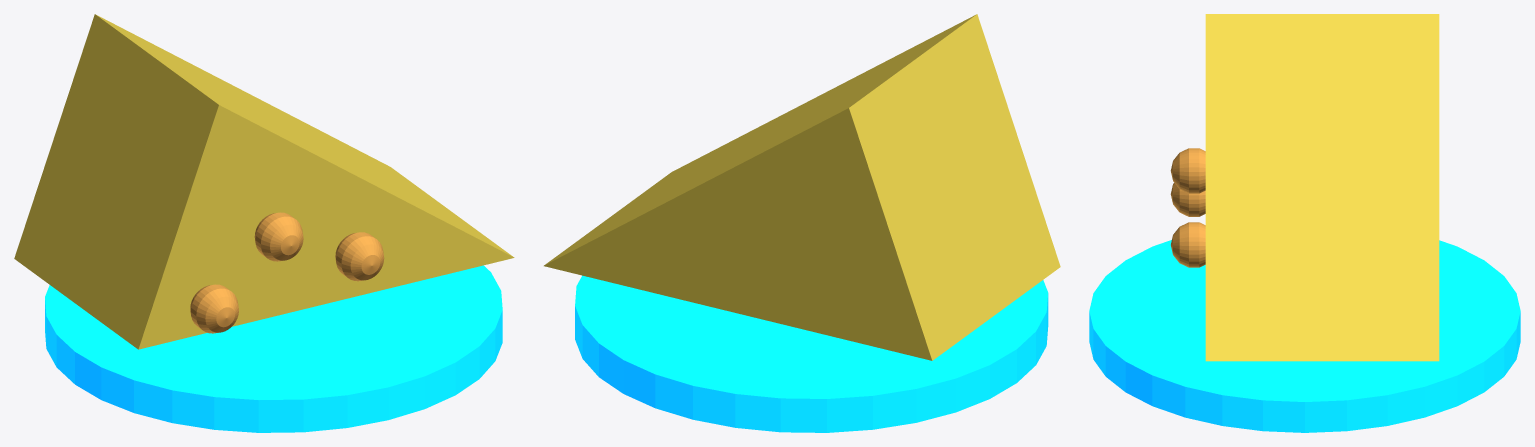
Rendered from french_cheese.glb.
3 views of the same model, side by side, from view 1: azimuth 30°, elevation 25°; view 2: azimuth 150°, elevation 25°; view 3: azimuth 270°, elevation 25° (orthographic). The views are drawn at different scales.
Parts seen in each view (by area): view 1: 10_06_Popular_French_Cheese_part_01, 10_06_Popular_French_Cheese_ROOT_base, 10_06_Popular_French_Cheese_part_02, 10_06_Popular_French_Cheese_part_03, 10_06_Popular_French_Cheese_part_04; view 2: 10_06_Popular_French_Cheese_part_01, 10_06_Popular_French_Cheese_ROOT_base; view 3: 10_06_Popular_French_Cheese_part_01, 10_06_Popular_French_Cheese_ROOT_base, 10_06_Popular_French_Cheese_part_02, 10_06_Popular_French_Cheese_part_04, 10_06_Popular_French_Cheese_part_03.
Boxes of the visible parts, left/top/right/bottom form: 10_06_Popular_French_Cheese_part_01: left=14, top=14, right=514, bottom=349; 10_06_Popular_French_Cheese_ROOT_base: left=45, top=265, right=502, bottom=432; 10_06_Popular_French_Cheese_part_02: left=254, top=212, right=303, bottom=261; 10_06_Popular_French_Cheese_part_03: left=190, top=284, right=238, bottom=333; 10_06_Popular_French_Cheese_part_04: left=335, top=232, right=384, bottom=281; 10_06_Popular_French_Cheese_part_01: left=544, top=14, right=1060, bottom=360; 10_06_Popular_French_Cheese_ROOT_base: left=575, top=275, right=1048, bottom=432; 10_06_Popular_French_Cheese_part_01: left=1205, top=14, right=1439, bottom=361; 10_06_Popular_French_Cheese_ROOT_base: left=1089, top=240, right=1520, bottom=432; 10_06_Popular_French_Cheese_part_02: left=1170, top=148, right=1205, bottom=193; 10_06_Popular_French_Cheese_part_04: left=1171, top=222, right=1205, bottom=267; 10_06_Popular_French_Cheese_part_03: left=1170, top=183, right=1205, bottom=216.
Size of the model in its own units: 0.76 by 0.5414 by 0.76.
